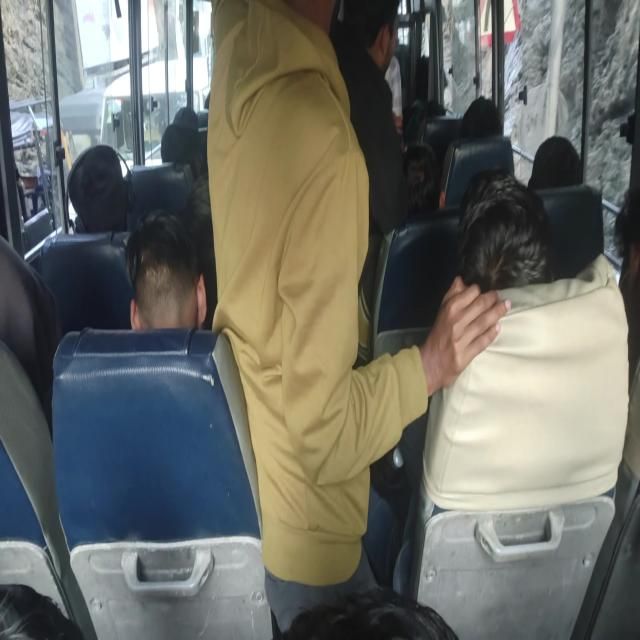person: (271, 529, 605, 640), (466, 170, 578, 338), (238, 0, 359, 129), (130, 228, 228, 367), (607, 162, 640, 419), (0, 236, 39, 377), (69, 155, 136, 220), (535, 130, 586, 214), (347, 0, 395, 82), (191, 168, 239, 237), (398, 142, 442, 213), (458, 99, 508, 140), (165, 126, 202, 179), (412, 84, 446, 123), (176, 94, 196, 121)
